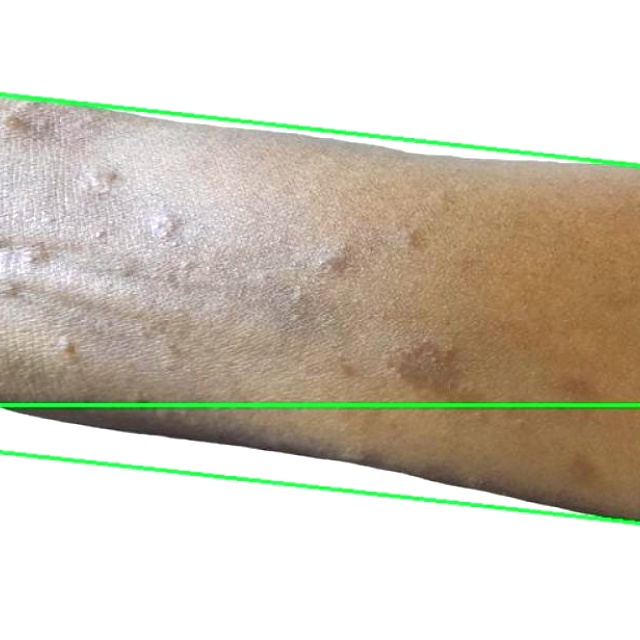Scabies: (0, 94, 639, 523), (0, 406, 639, 639)
